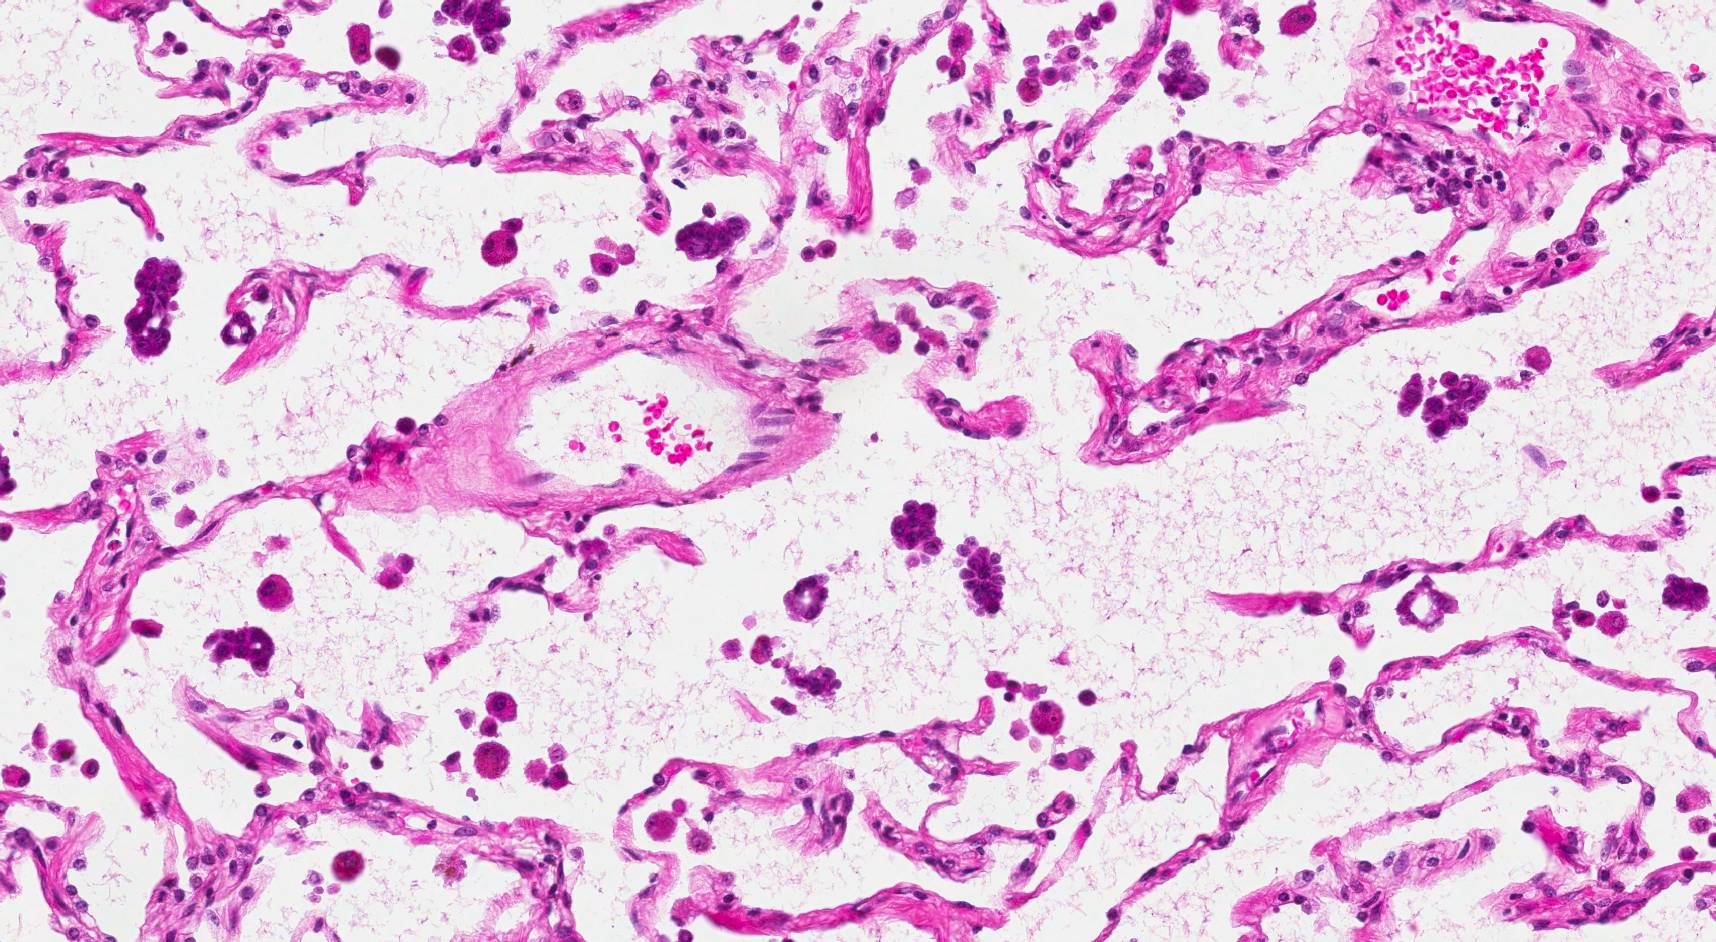stas: (123, 255, 189, 365), (1398, 367, 1491, 441), (951, 536, 1020, 618), (429, 2, 523, 58), (884, 492, 951, 570), (1389, 572, 1465, 638), (196, 623, 280, 680), (1153, 38, 1218, 106), (674, 209, 750, 262), (777, 566, 841, 627), (782, 657, 847, 702), (212, 312, 263, 350)
